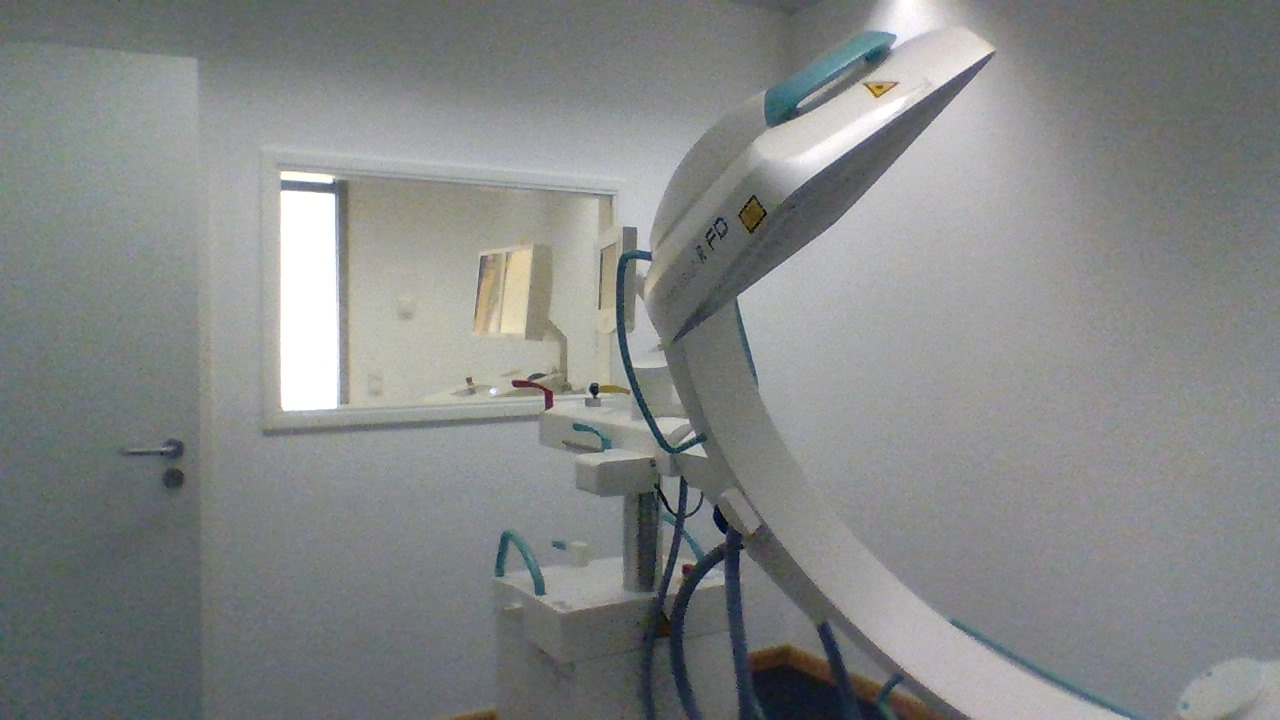carmBACK: (547, 536, 592, 567)
carmLOCK: (711, 499, 739, 541)
carmSCREEN: (593, 224, 634, 336)
carmUP: (639, 18, 997, 349)
